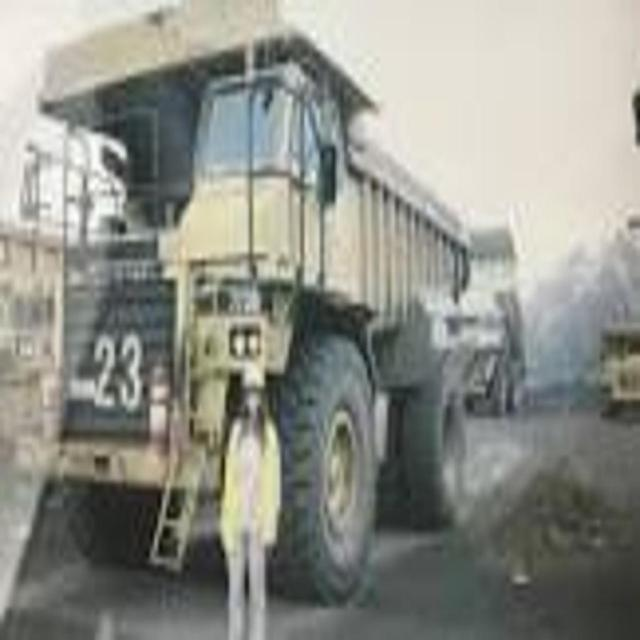dump_truck: (27, 8, 477, 638)
